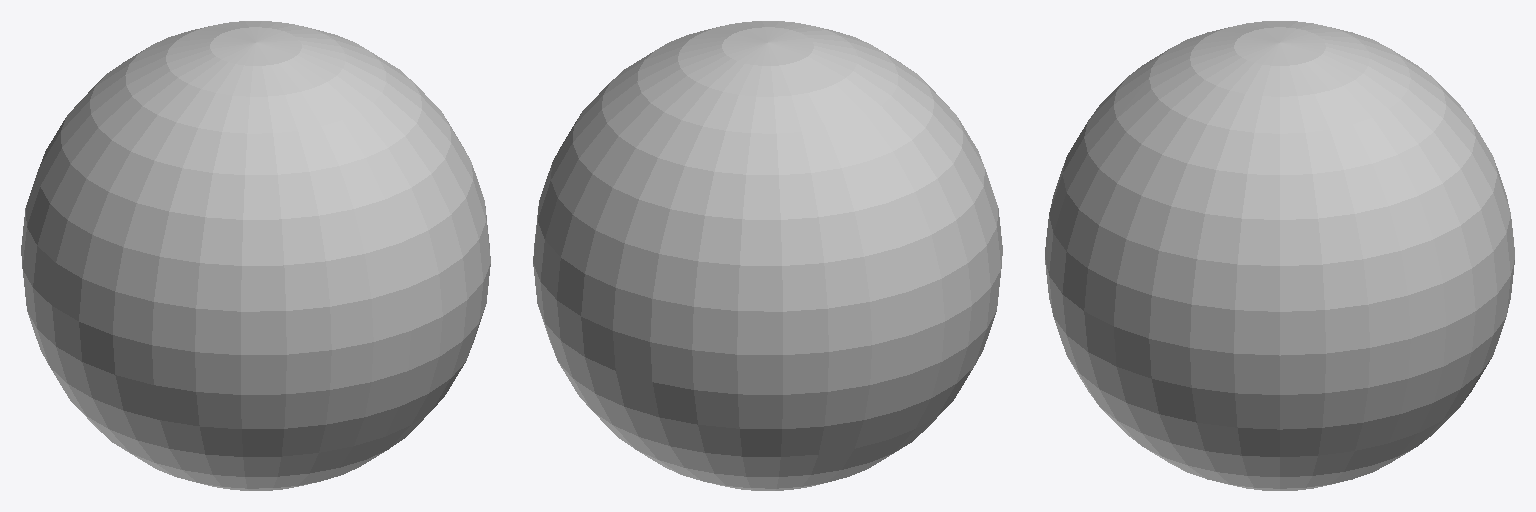
The model's file is ball.obj.
3 renders of one model, left to right at view 1: azimuth 30°, elevation 25°; view 2: azimuth 150°, elevation 25°; view 3: azimuth 270°, elevation 25°, orthographic.
Parts seen in each view (by area): view 1: Sphere; view 2: Sphere; view 3: Sphere.
Boxes of the visible parts, x1=… form: Sphere: x1=21, y1=21, x2=490, y2=490; Sphere: x1=533, y1=21, x2=1002, y2=490; Sphere: x1=1045, y1=21, x2=1514, y2=490.
Size of the model in its own units: 0.413 by 0.413 by 0.413.